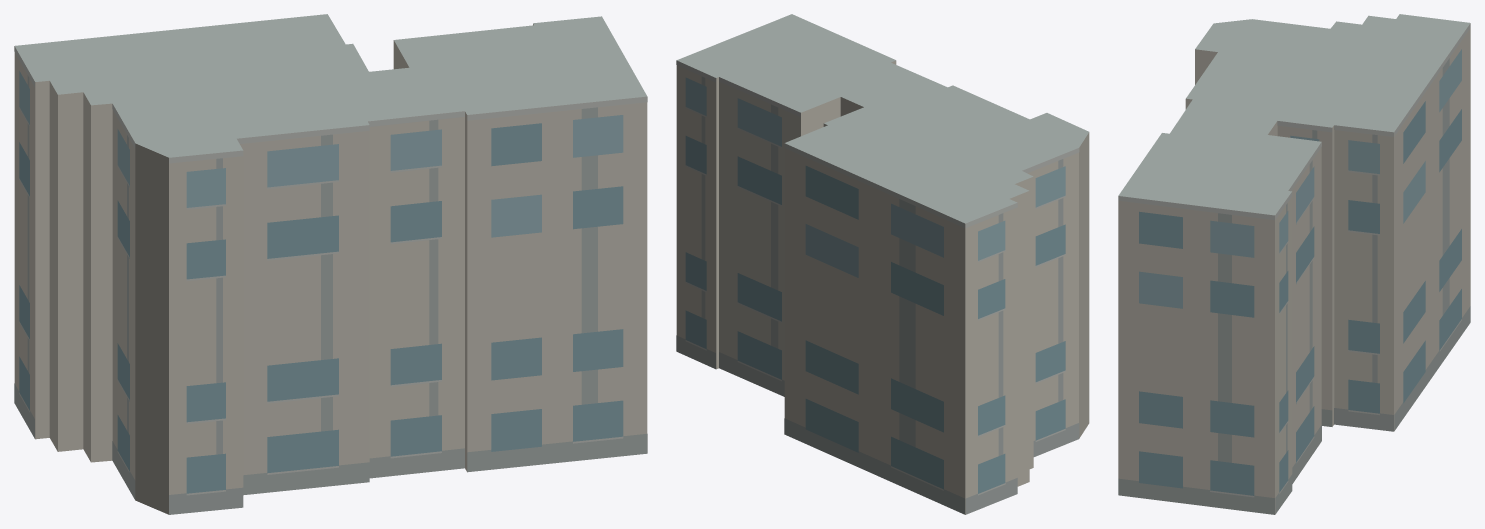
The model's file is survey-upis-32817066.glb.
3 renders of one model, left to right at view 1: azimuth 30°, elevation 25°; view 2: azimuth 150°, elevation 25°; view 3: azimuth 270°, elevation 25°, orthographic. The views are drawn at different scales.
Parts seen in each view (by area): view 1: survey-upis-32817066.tmp; view 2: survey-upis-32817066.tmp; view 3: survey-upis-32817066.tmp.
Part boxes in pixels (x1,y1,x2,y2): survey-upis-32817066.tmp: (14,14,647,514); survey-upis-32817066.tmp: (676,14,1089,514); survey-upis-32817066.tmp: (1118,14,1470,514).
Size of the model in its own units: 21.97 by 15.22 by 16.25.
